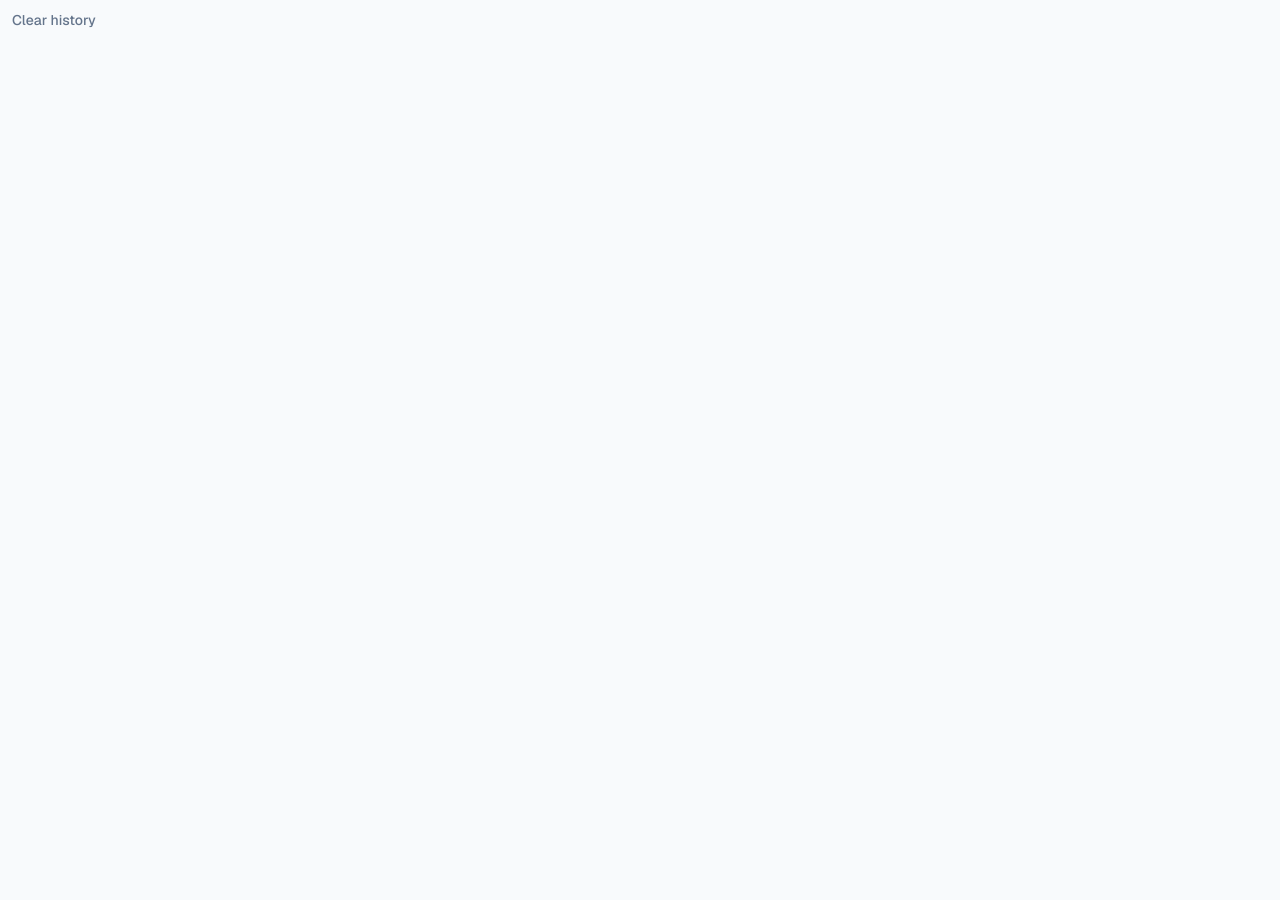
Test: uses stronger clear-history copy and invokes the no-argument action
This screenshot has width=1280, height=900.
Later steps or results of the test are not shown.
Click the button "Clear history".
click(54, 20)  # box [0,0,108,40]
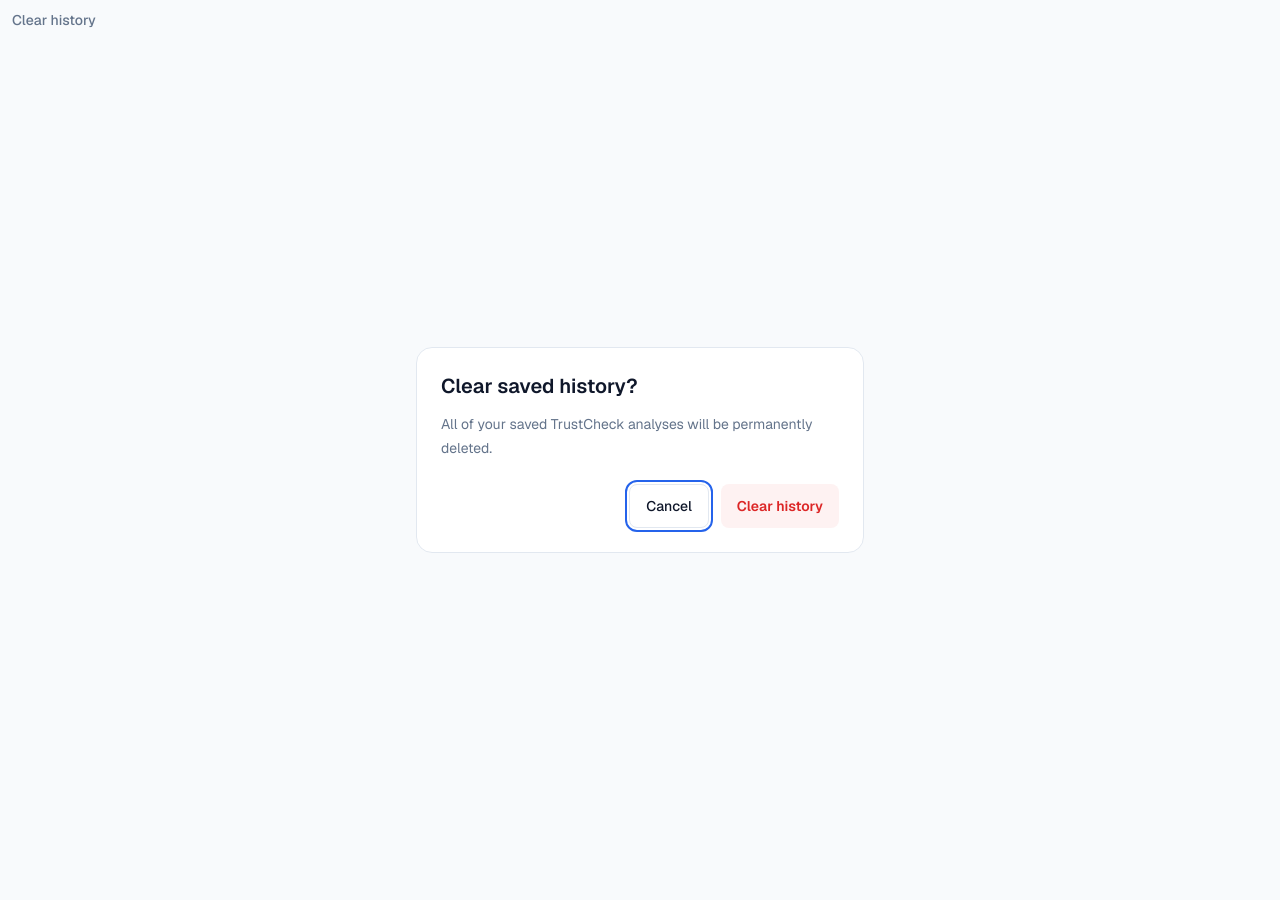
Expected: the text "Clear saved history?" is shown, [441,373,638,399]
Expected: the text "All of your saved TrustCheck analyses will be permanently deleted." is shown, [441,412,839,460]
